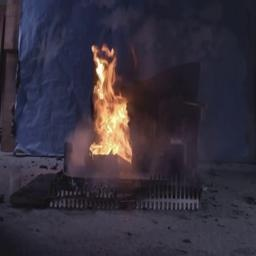fire: (79, 39, 148, 165)
